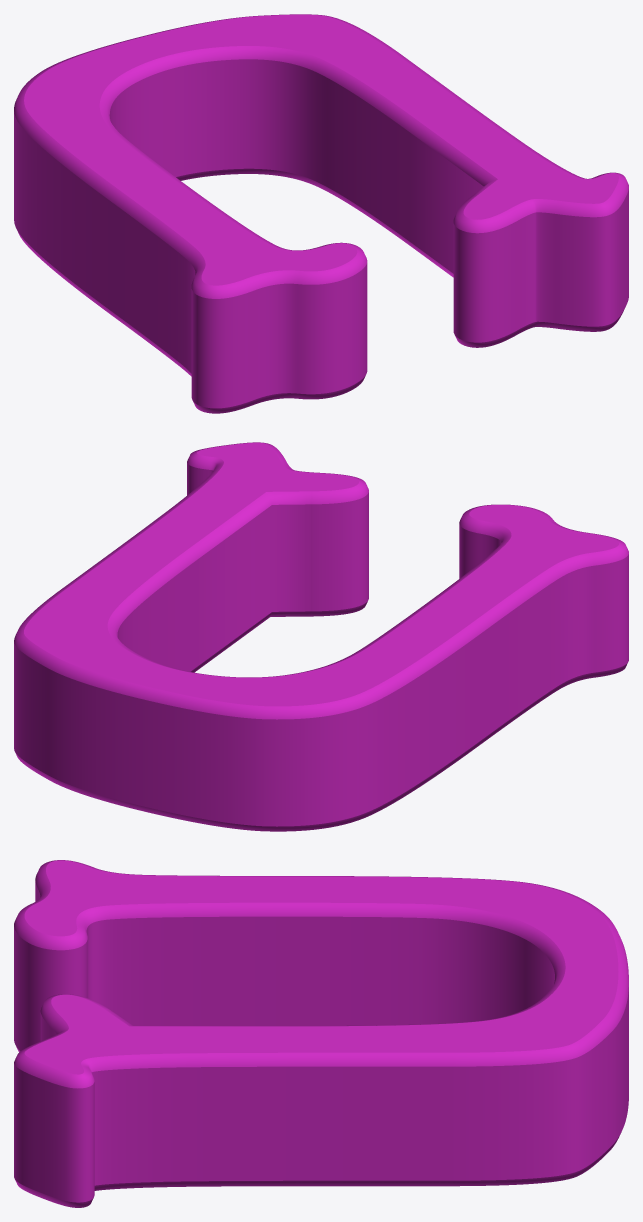
File: Letter_U.fbx
The picture shows the model from 3 angles, top to bottom: view 1: azimuth 30°, elevation 25°; view 2: azimuth 150°, elevation 25°; view 3: azimuth 270°, elevation 25°; orthographic projection. The views are drawn at different scales.
Visible parts, largest first — view 1: Letter_U; view 2: Letter_U; view 3: Letter_U.
Part boxes in pixels (bbox=[...]): Letter_U: bbox=[14, 14, 628, 413]; Letter_U: bbox=[14, 442, 628, 831]; Letter_U: bbox=[14, 860, 628, 1207].
Size of the model in its own units: 0.5033 by 0.14 by 0.5863.
